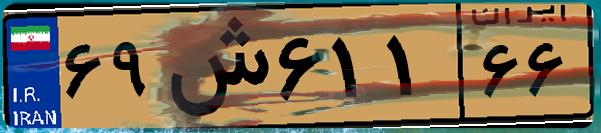1: (385, 28, 445, 110), (330, 28, 385, 110)
6: (270, 28, 330, 110), (57, 26, 110, 100), (475, 38, 525, 113), (525, 38, 570, 115)
9: (110, 28, 158, 98)
ش: (158, 12, 270, 120)
